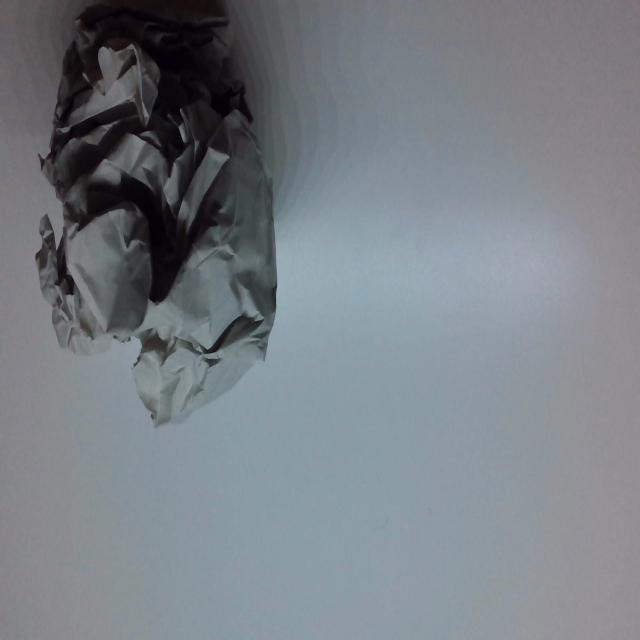Paper: (45, 0, 268, 438)
